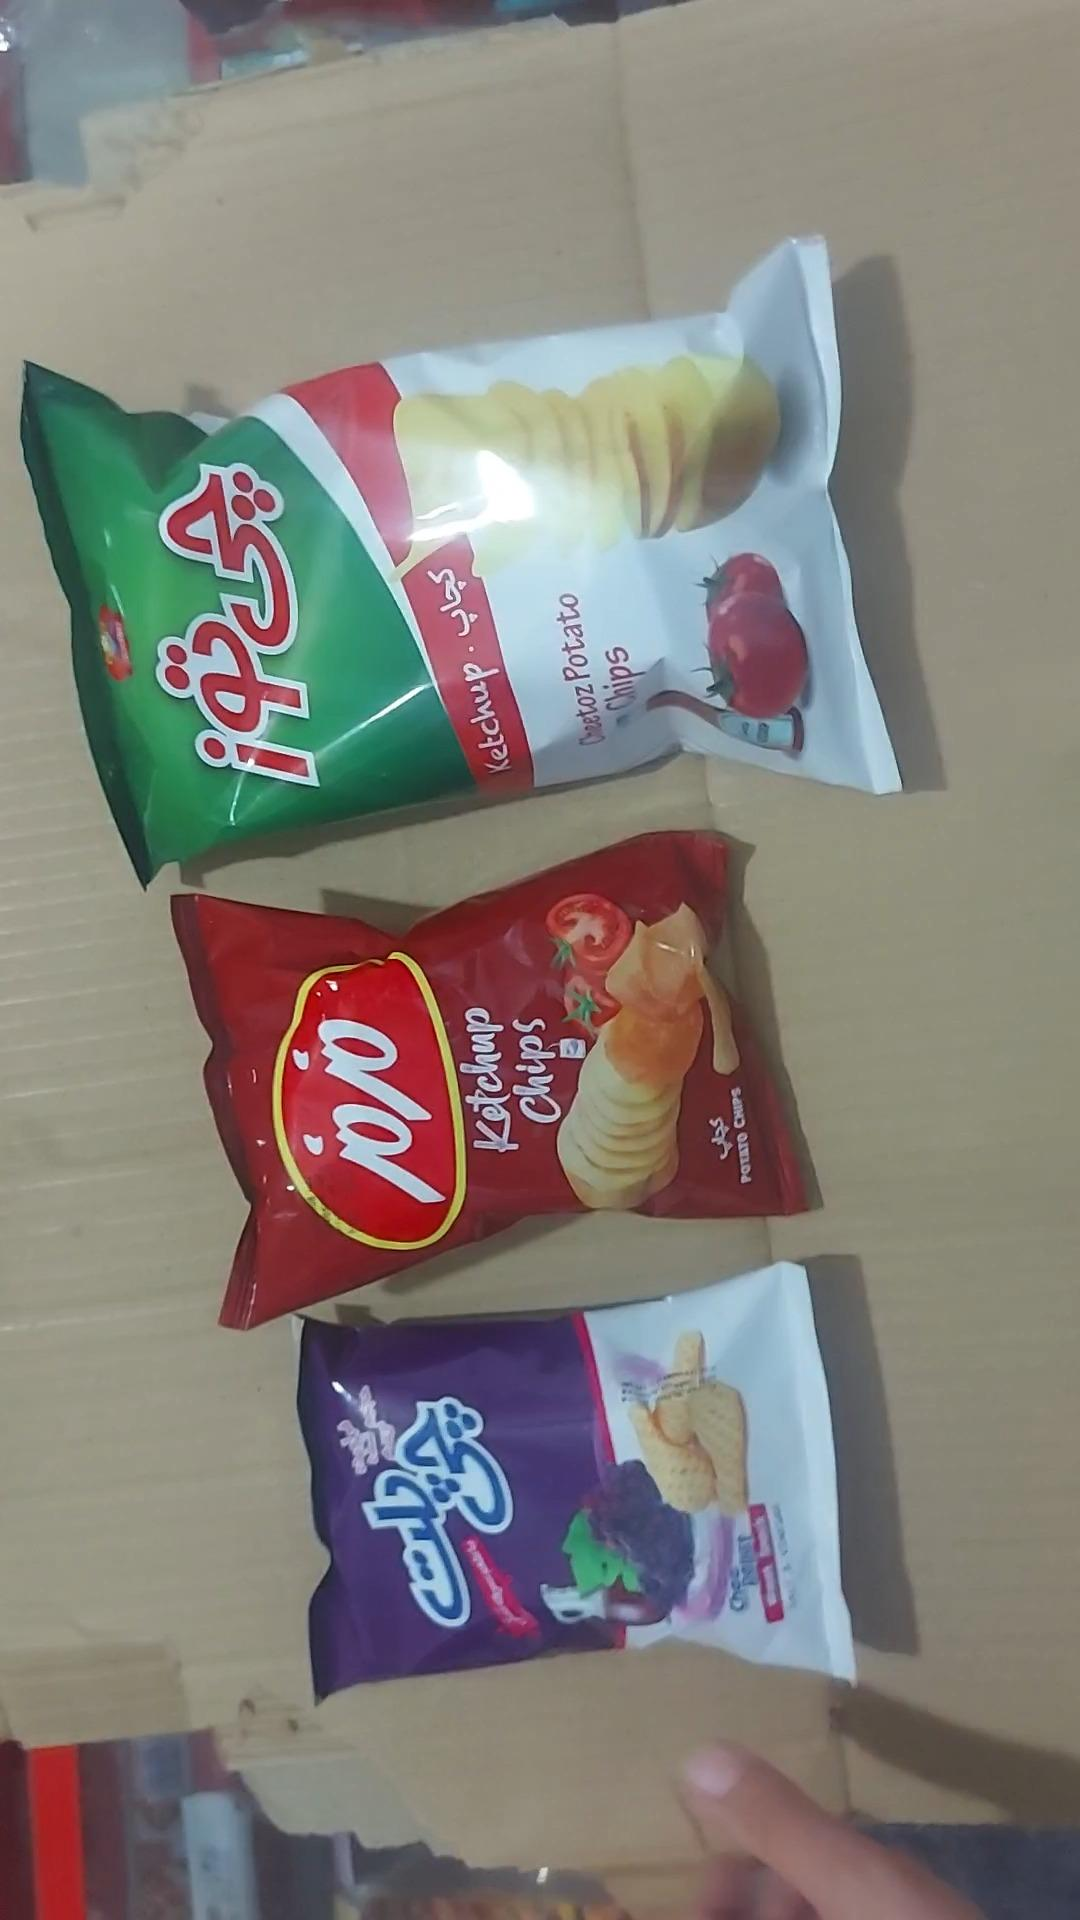Chee pellet vinegar: (298, 1263, 855, 1698)
Cheetoz ketchup chips: (21, 239, 899, 886)
Maz Maz ketchup chips: (173, 833, 808, 1327)
